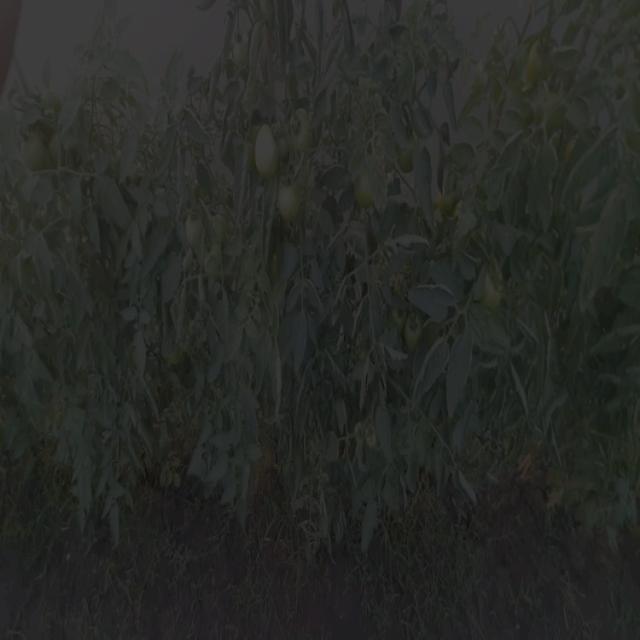tomato: (251, 121, 285, 181), (11, 126, 53, 168), (269, 174, 301, 229), (523, 31, 551, 92), (481, 275, 512, 314), (290, 108, 316, 153), (181, 213, 213, 247), (349, 174, 372, 207), (402, 316, 425, 348), (440, 193, 465, 220)
